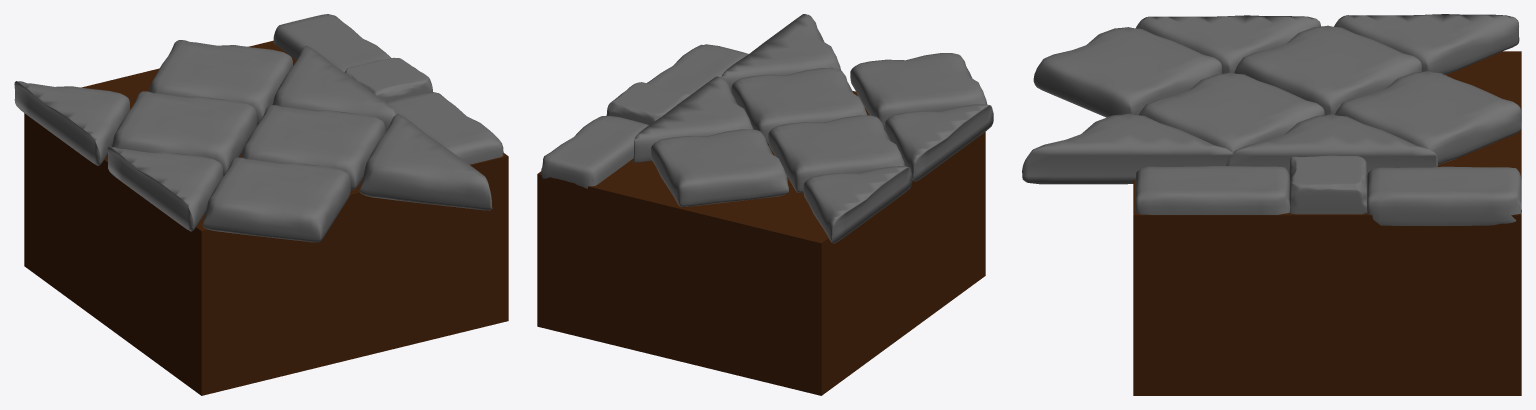
The model's file is fixed_1.fbx.
3 views of the same model, side by side, from view 1: azimuth 30°, elevation 25°; view 2: azimuth 150°, elevation 25°; view 3: azimuth 270°, elevation 25° (orthographic). The views are drawn at different scales.
Visible parts, largest first — view 1: ground.001, block2.007, block2, block2.002, block2.003, block2.001, block2.008, block2.009, block2.006, block1.011, block1.009, block3_002.001; view 2: ground.001, block2.001, block2.002, block2.007, block2.003, block2.009, block2.008, block1.009, block2.006, block2, block1.011, block3_002.001; view 3: ground.001, block2.007, block2.001, block2, block2.002, block1.009, block2.003, block1.011, block2.009, block2.006, block2.008, block3_002.001.
Boxes of the visible parts, box(x1,y1,x2,y2) form: ground.001: box(24, 40, 508, 395); block2.007: box(202, 157, 350, 242); block2: box(359, 114, 492, 210); block2.002: box(112, 91, 256, 176); block2.003: box(241, 105, 385, 189); block2.001: box(149, 40, 292, 124); block2.008: box(107, 146, 223, 231); block2.009: box(14, 81, 129, 165); block2.006: box(272, 46, 396, 132); block1.011: box(386, 91, 503, 164); block1.009: box(273, 14, 390, 72); block3_002.001: box(345, 57, 432, 101); ground.001: box(537, 91, 985, 395); block2.001: box(650, 129, 788, 206); block2.002: box(768, 115, 904, 192); block2.007: box(850, 53, 987, 129); block2.003: box(731, 67, 867, 145); block2.009: box(803, 166, 912, 243); block2.008: box(884, 104, 993, 181); block1.009: box(540, 115, 648, 188); block2.006: box(633, 76, 752, 162); block2: box(721, 14, 840, 91); block1.011: box(646, 44, 748, 94); block3_002.001: box(606, 82, 690, 124); ground.001: box(1133, 51, 1521, 395); block2.007: box(1033, 27, 1222, 117); block2.001: box(1335, 71, 1521, 165); block2: box(1022, 113, 1233, 184); block2.002: box(1234, 25, 1421, 115); block1.009: box(1367, 166, 1521, 225); block2.003: box(1139, 72, 1324, 152); block1.011: box(1135, 165, 1289, 214); block2.009: box(1334, 14, 1519, 74); block2.006: box(1226, 114, 1437, 175); block2.008: box(1136, 15, 1320, 73); block3_002.001: box(1289, 155, 1367, 214).
Size of the model in its own units: 210 by 121 by 258.
